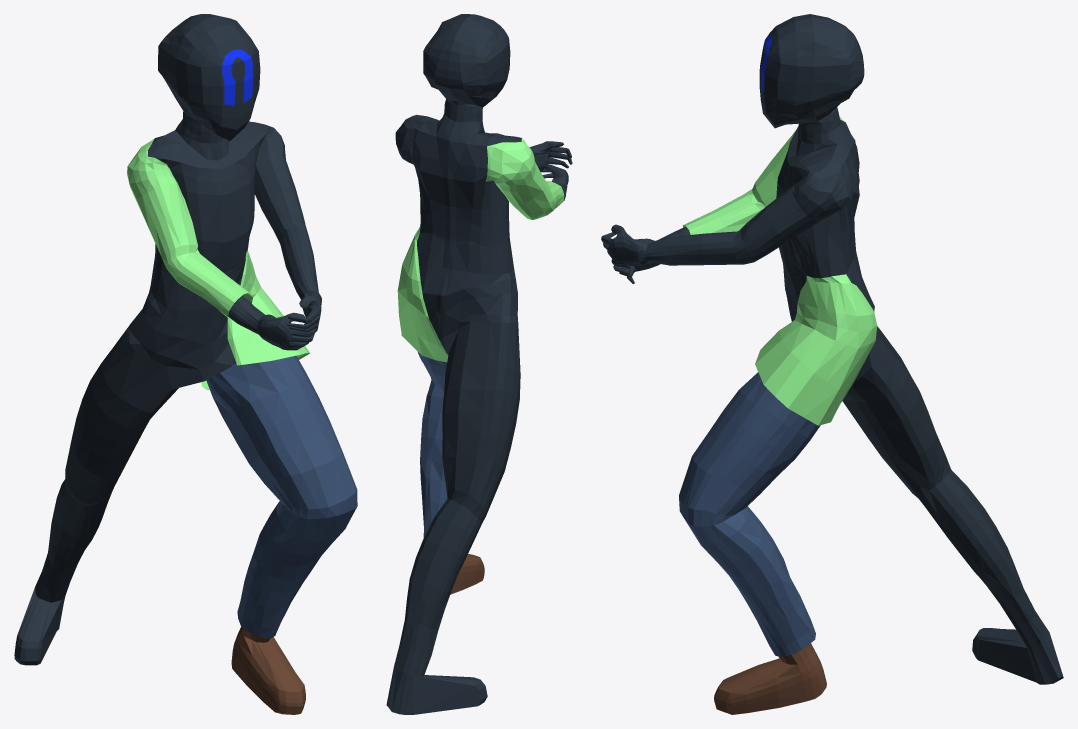
File: Mar_WB_000027.obj
The picture shows the model from 3 angles, left to right: view 1: azimuth 30°, elevation 25°; view 2: azimuth 150°, elevation 25°; view 3: azimuth 270°, elevation 25°; orthographic projection. The views are drawn at different scales.
Visible parts, largest first — view 1: Cube.000_Cube.001; view 2: Cube.000_Cube.001; view 3: Cube.000_Cube.001.
Part boxes in pixels (<box>): Cube.000_Cube.001: <box>14,14,357,714</box>; Cube.000_Cube.001: <box>386,14,572,714</box>; Cube.000_Cube.001: <box>601,14,1063,714</box>.
Size of the model in its own units: 1.1 by 3.68 by 2.25.
